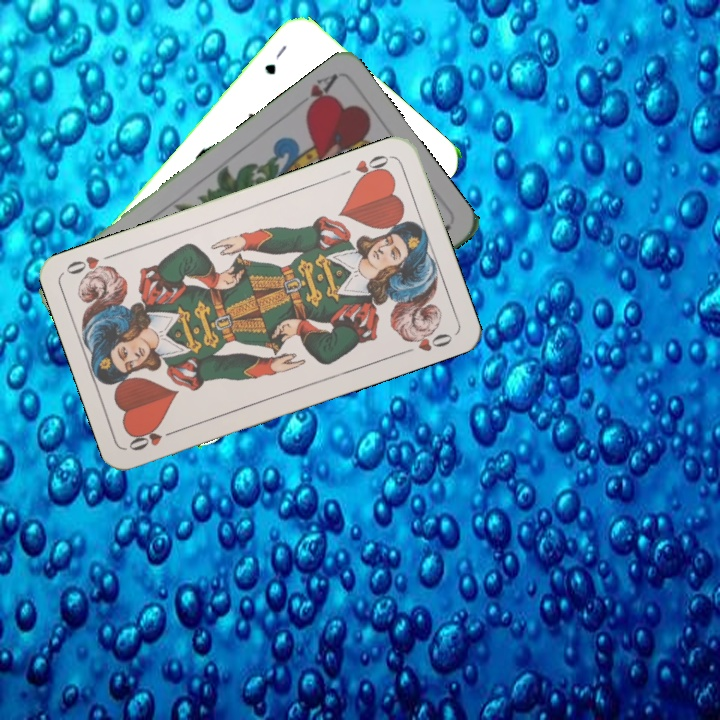GU: (260, 40, 290, 78)
HA: (300, 69, 341, 119)
HO: (336, 151, 393, 184), (124, 423, 182, 454)
